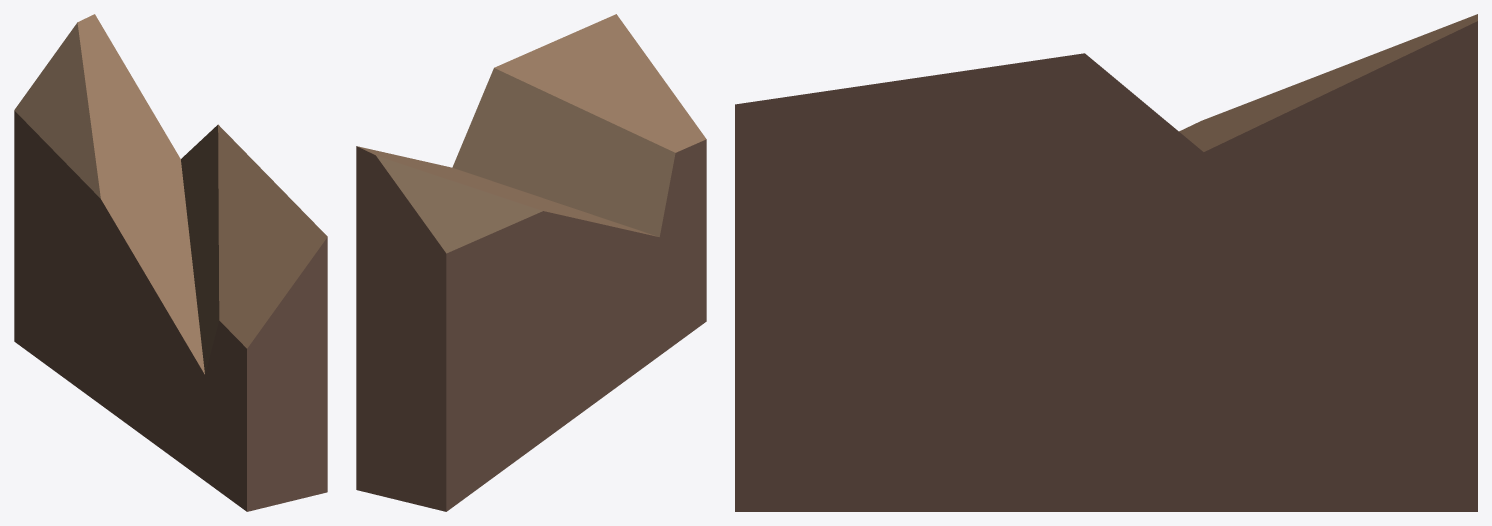
The model's file is factory_wall_break_1.fbx.
The picture shows the model from 3 angles, left to right: view 1: azimuth 30°, elevation 25°; view 2: azimuth 150°, elevation 25°; view 3: azimuth 270°, elevation 25°; orthographic projection. The views are drawn at different scales.
Visible parts, largest first — view 1: factory_wall_break_1; view 2: factory_wall_break_1; view 3: factory_wall_break_1.
Boxes of the visible parts, x1,y1,x2,y2 form: factory_wall_break_1: [14, 14, 327, 511]; factory_wall_break_1: [356, 14, 706, 511]; factory_wall_break_1: [735, 14, 1477, 511].
Size of the model in its own units: 50 by 182 by 250.
